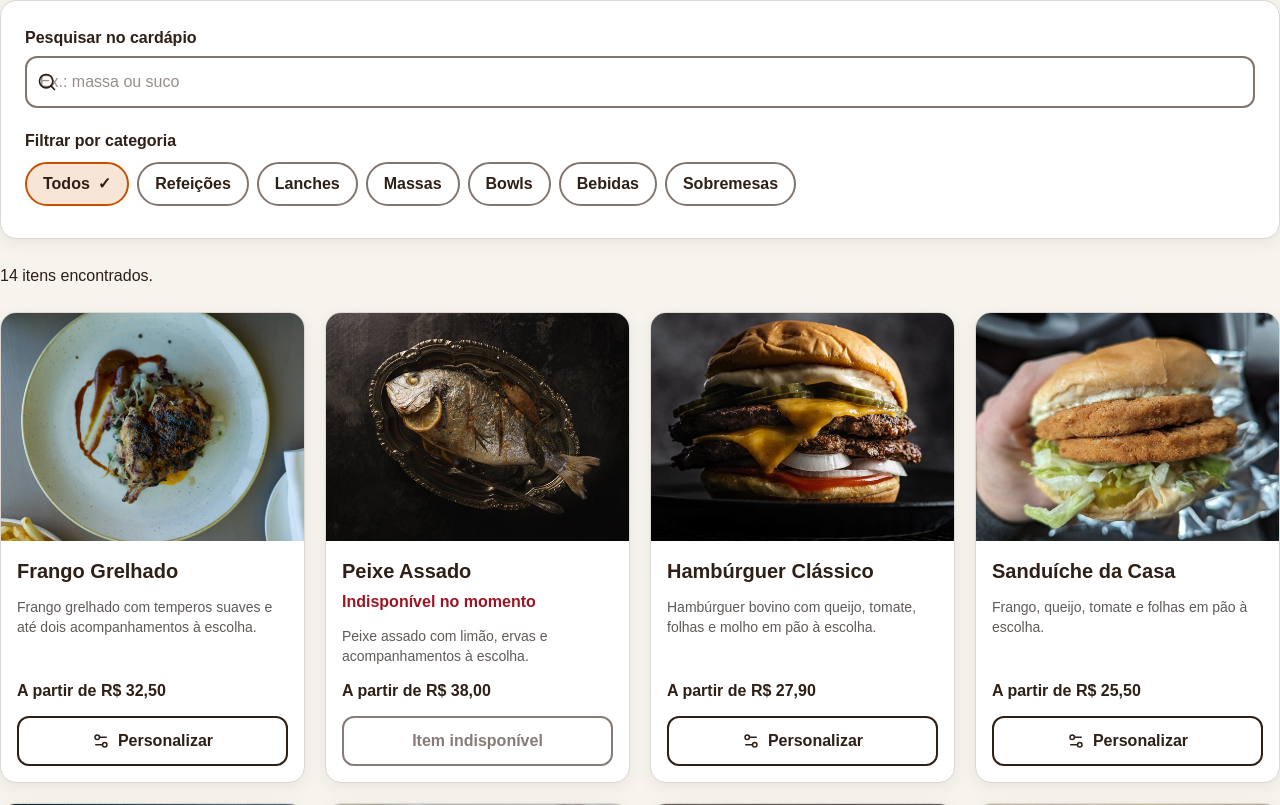
Scenario: MenuBrowser › limpa a pesquisa por uma ação identificada
In the search field labelled "Pesquisar no cardápio": (640, 82) x1=25 y1=56 x2=1255 y2=108, type "massa"
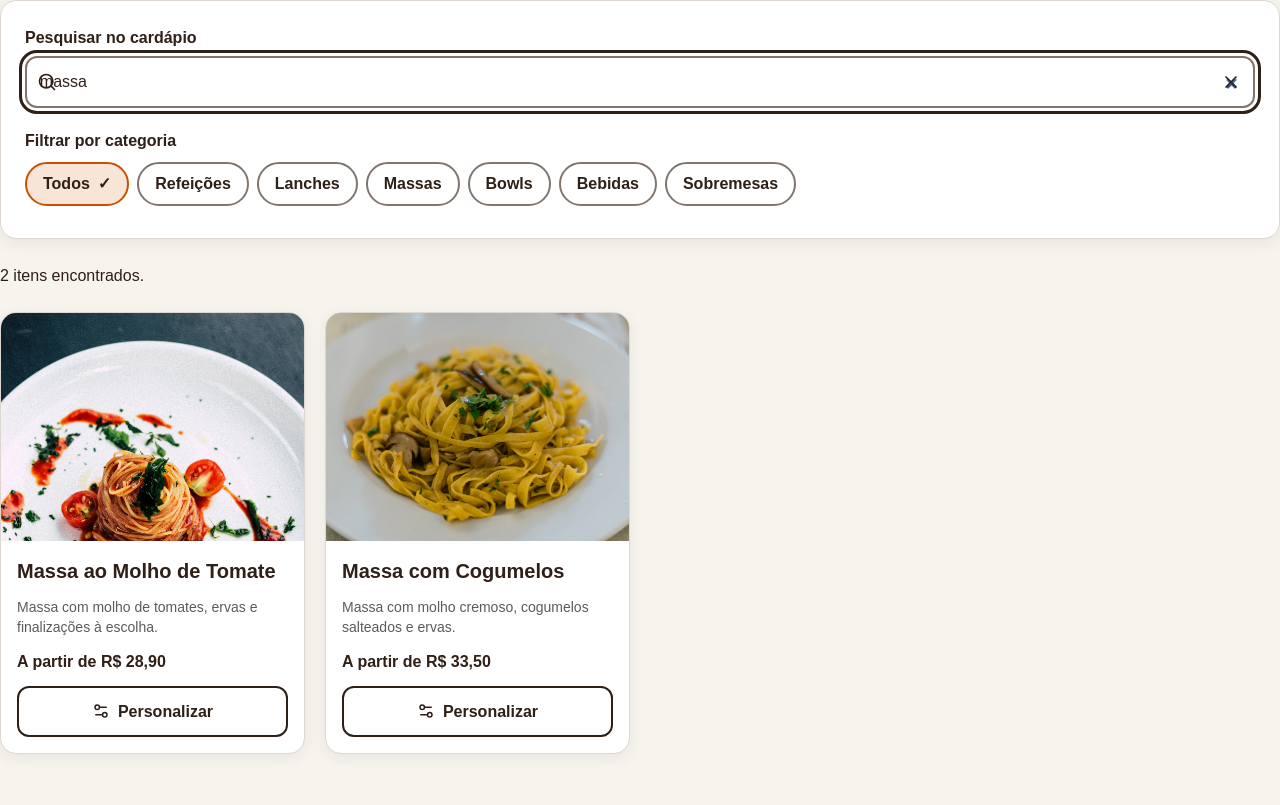
Click the button named "Limpar pesquisa": (1231, 82) x1=1211 y1=62 x2=1251 y2=102
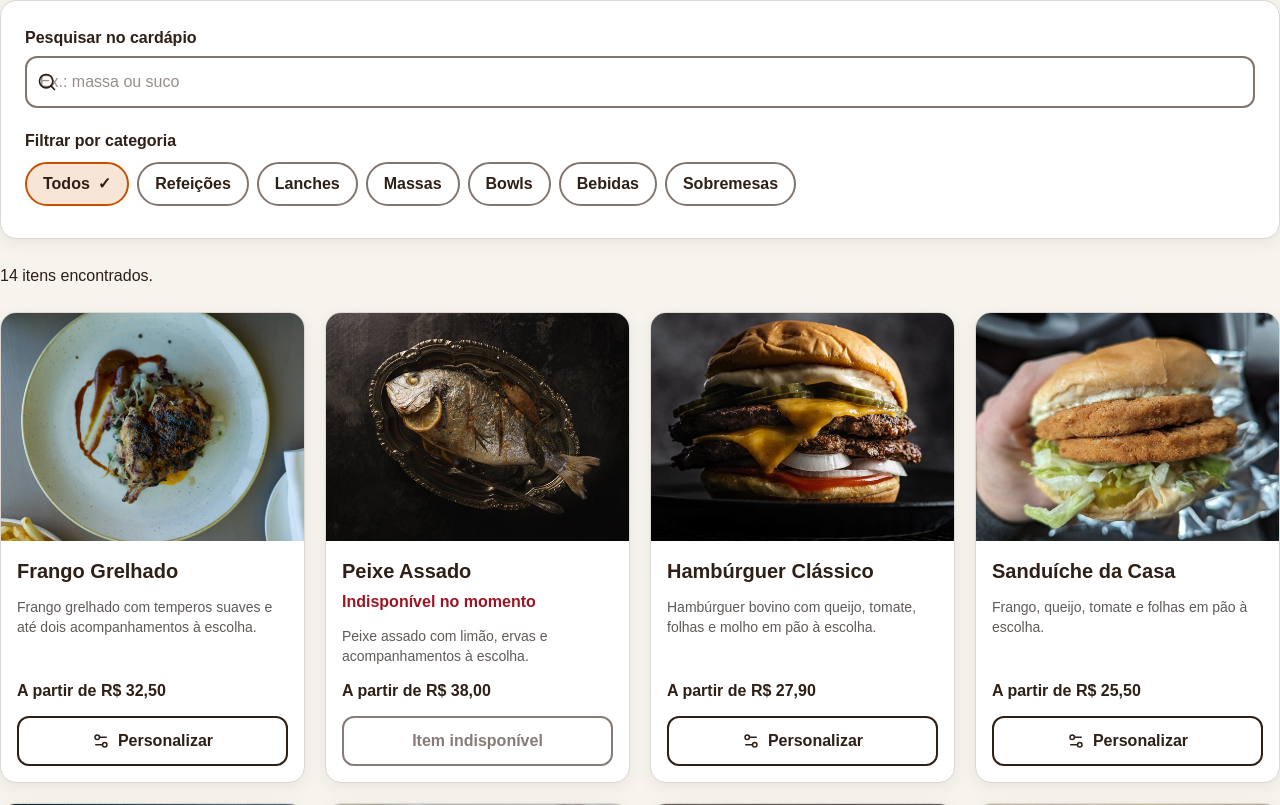
Now the search field labelled "Pesquisar no cardápio" is empty, box x1=25 y1=56 x2=1255 y2=108
